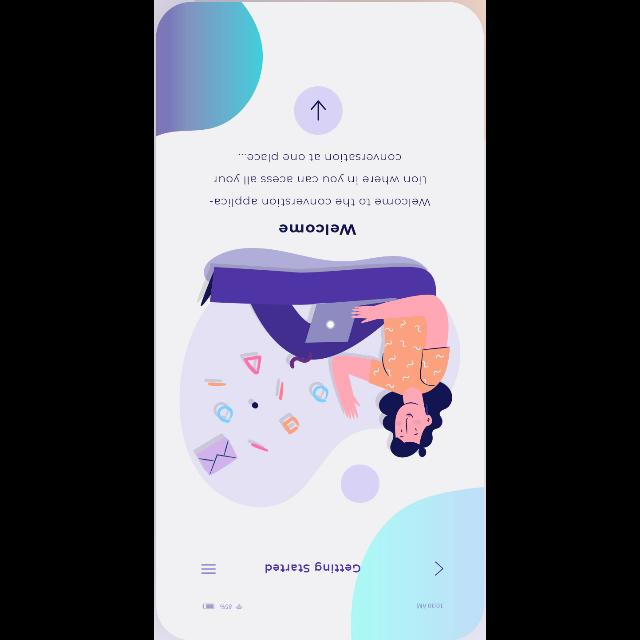icon: (294, 86, 342, 134), (200, 564, 216, 574), (435, 561, 443, 575)
image: (179, 247, 461, 507)
text: (210, 152, 430, 206), (264, 562, 360, 572), (278, 224, 356, 236)
uppertaskbar: (202, 603, 442, 609)
